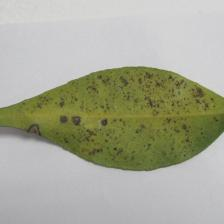canker: (62, 72, 196, 160)
